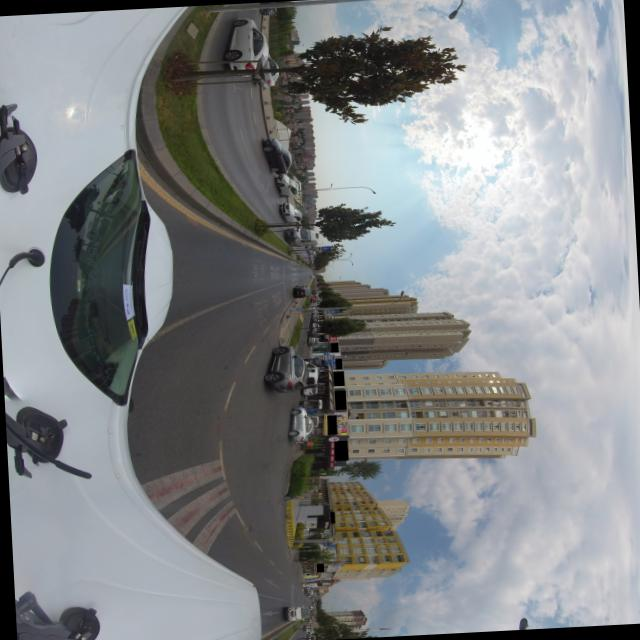SignStore: (333, 390, 346, 410), (334, 441, 347, 461), (332, 371, 344, 386), (327, 415, 335, 435), (330, 343, 338, 353), (335, 358, 341, 370), (316, 564, 323, 573), (329, 512, 334, 524)
